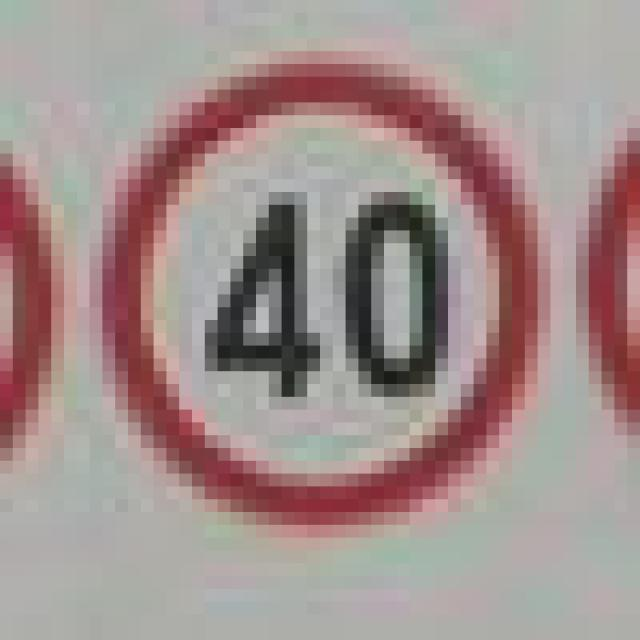SPEED_LIMIT_40: (90, 38, 538, 512)
